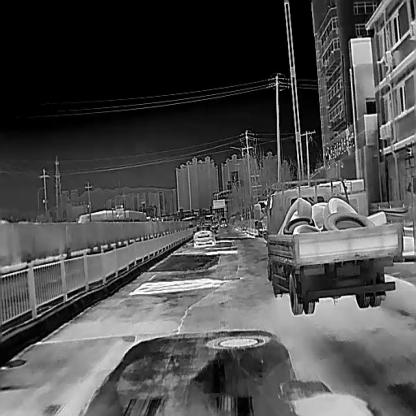car: (192, 224, 216, 246)
truck: (266, 176, 404, 314)
